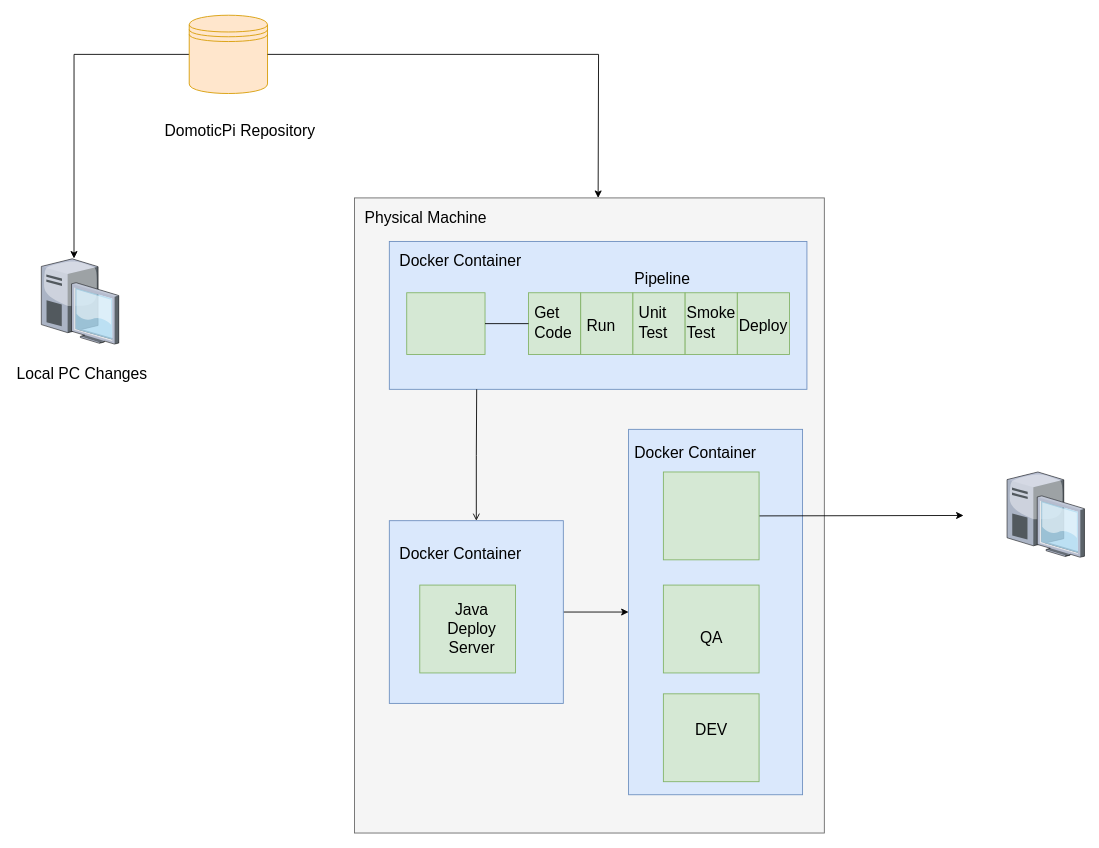
Some shapes in this 1099 by 848 pixel diagram are drawn without their labels. The centre of each missing label's shape, as x and y in pixels:
Jenkins: point 445,323
PROD: point 711,515
